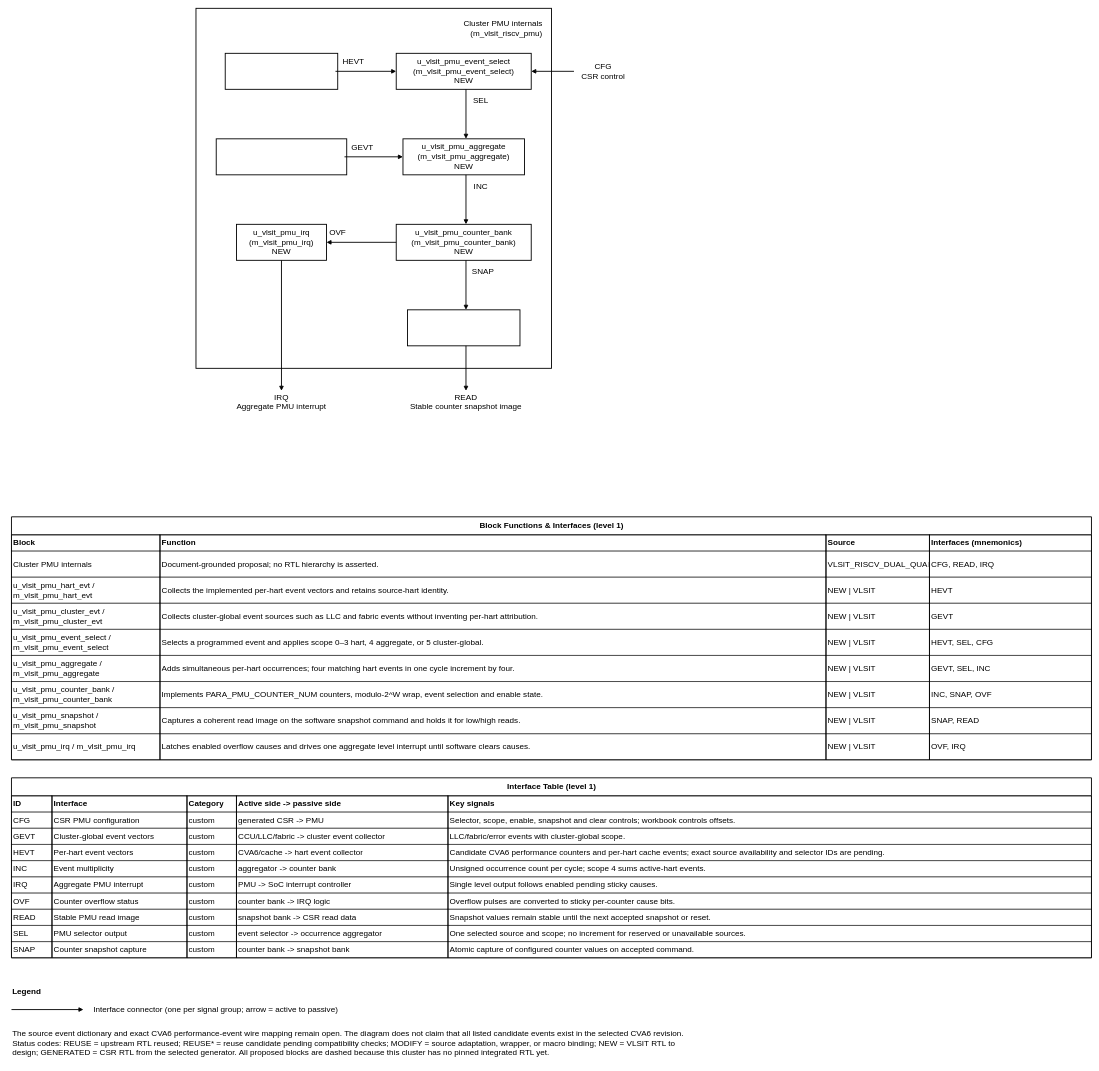
Image size: 1099x1071. Some labels were removed from this diagram. The centre of each missing label's shape, as x and y in pixels:
u_vlsit_pmu_cluster_evt (m_vlsit_pmu_cluster_evt) NEW: the point at 281,156
u_vlsit_pmu_hart_evt (m_vlsit_pmu_hart_evt) NEW: the point at 281,71
u_vlsit_pmu_snapshot (m_vlsit_pmu_snapshot) NEW: the point at 463,327
